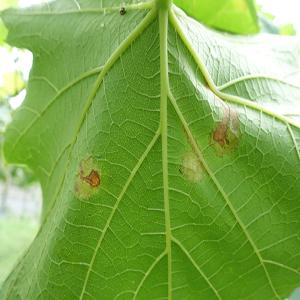Folha: (0, 0, 299, 298)
Fungo: (208, 116, 240, 158), (73, 156, 101, 200), (179, 150, 205, 184), (212, 120, 230, 148), (80, 168, 100, 188), (119, 7, 125, 15)
